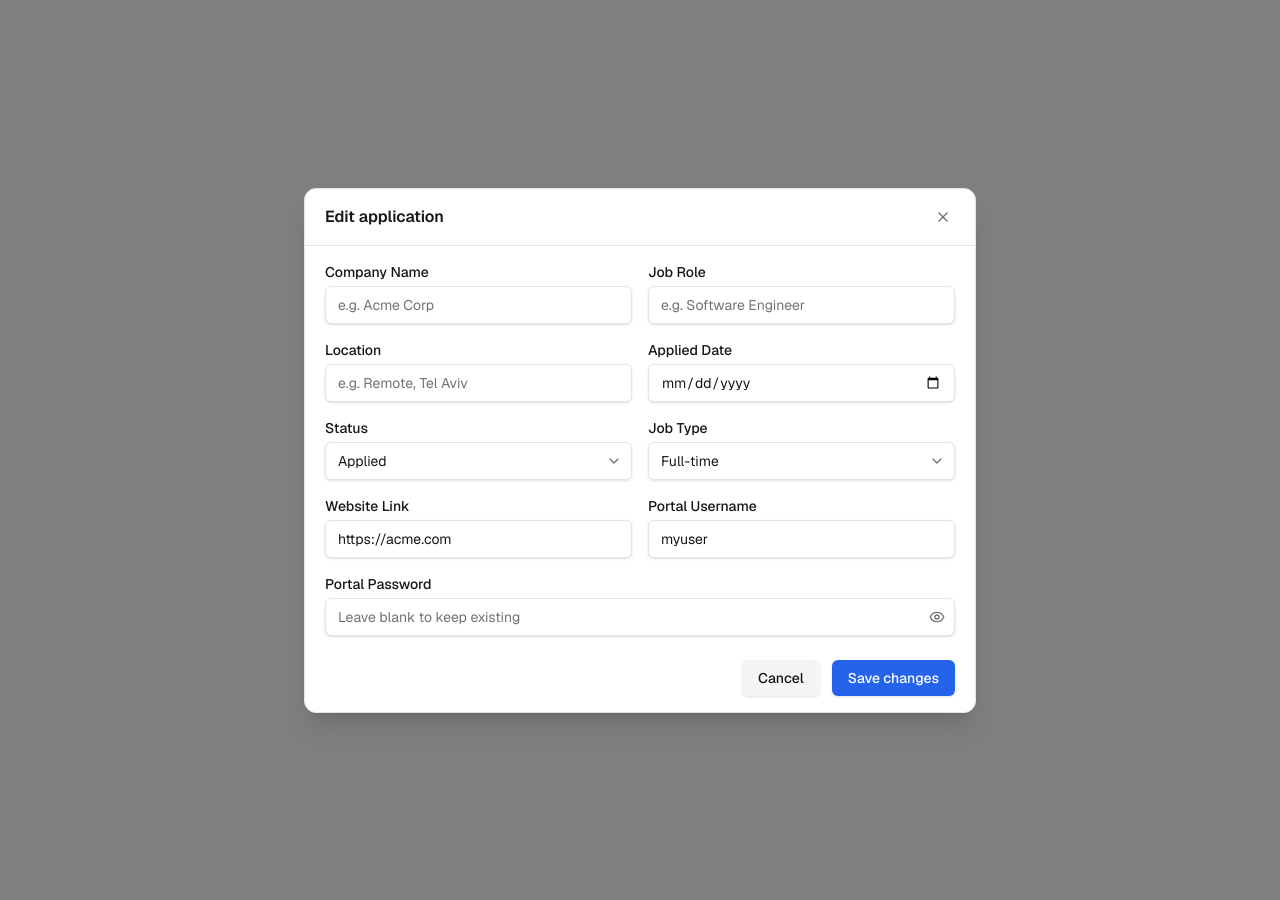
Scenario: EditModal › shows validation errors when required fields are empty
Click the button "Save changes" at (893, 678), box [832, 660, 955, 696]
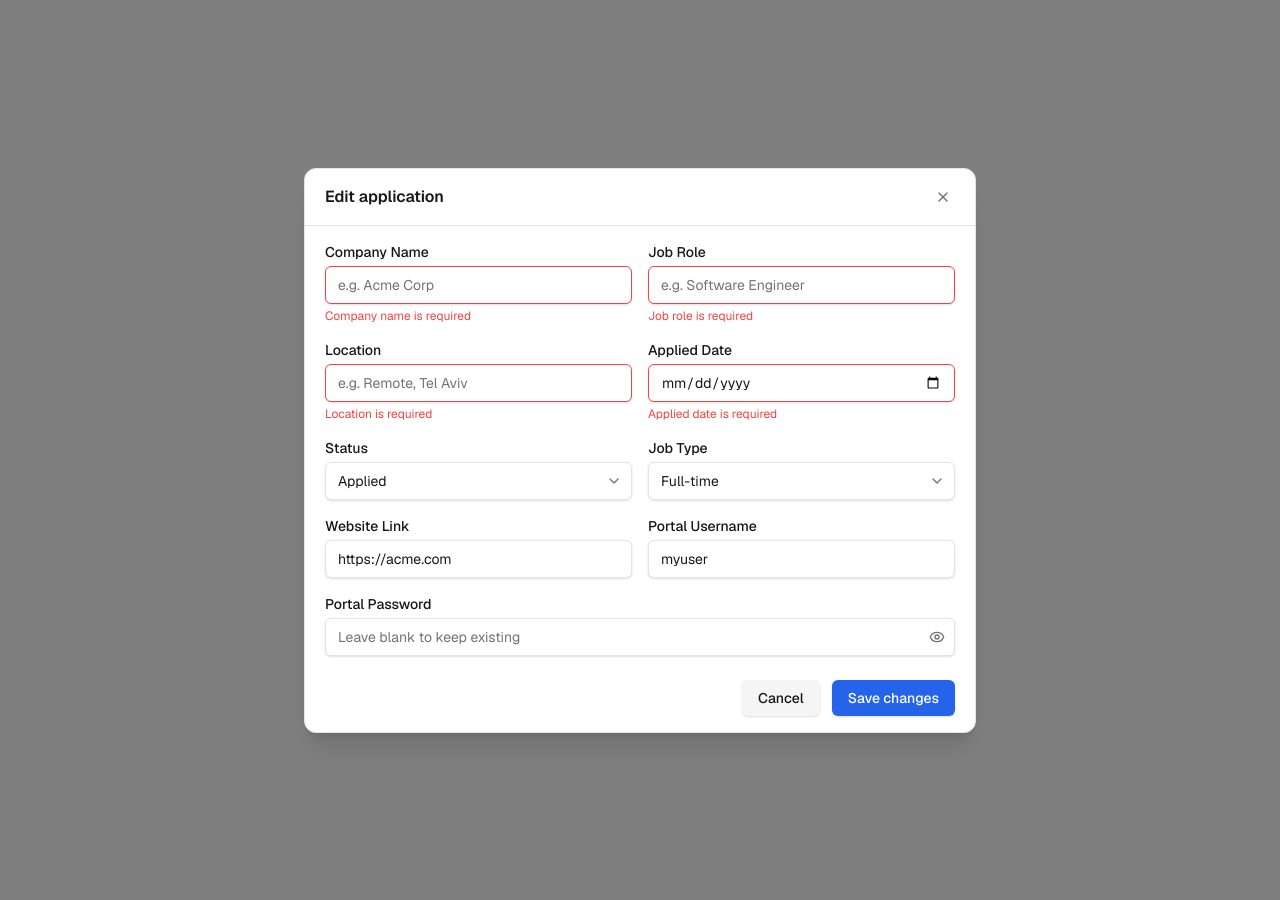
Expected: the text "Company name is required" is shown, [325, 308, 471, 324]
Expected: the text "Job role is required" is shown, [648, 308, 753, 324]
Expected: the text "Location is required" is shown, [325, 406, 432, 422]
